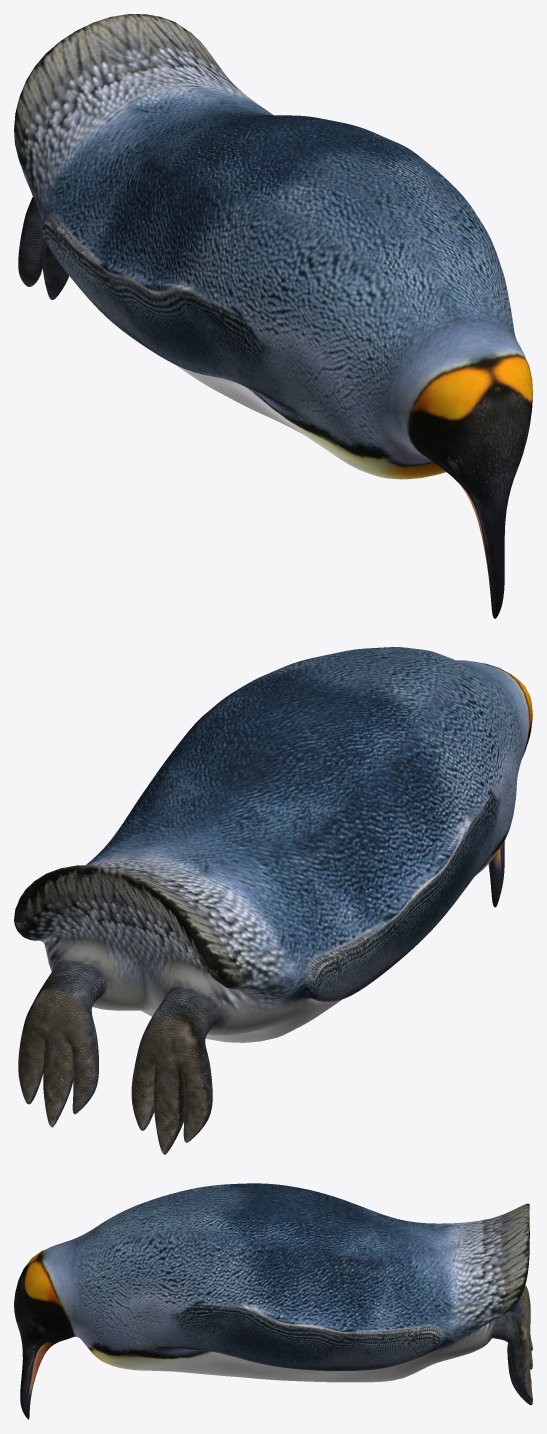
Rendered from Penguin.glb.
The picture shows the model from 3 angles, top to bottom: view 1: azimuth 30°, elevation 25°; view 2: azimuth 150°, elevation 25°; view 3: azimuth 270°, elevation 25°; orthographic projection. The views are drawn at different scales.
Visible parts, largest first — view 1: Penguin; view 2: Penguin; view 3: Penguin.
Part boxes in pixels (x1=…): Penguin: x1=14, y1=14, x2=532, y2=618; Penguin: x1=14, y1=647, x2=532, y2=1154; Penguin: x1=14, y1=1183, x2=532, y2=1419.
Size of the model in its own units: 43.35 by 49.12 by 103.
2 materials, 2 textured.
